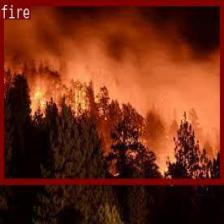fire: (0, 0, 222, 182)
